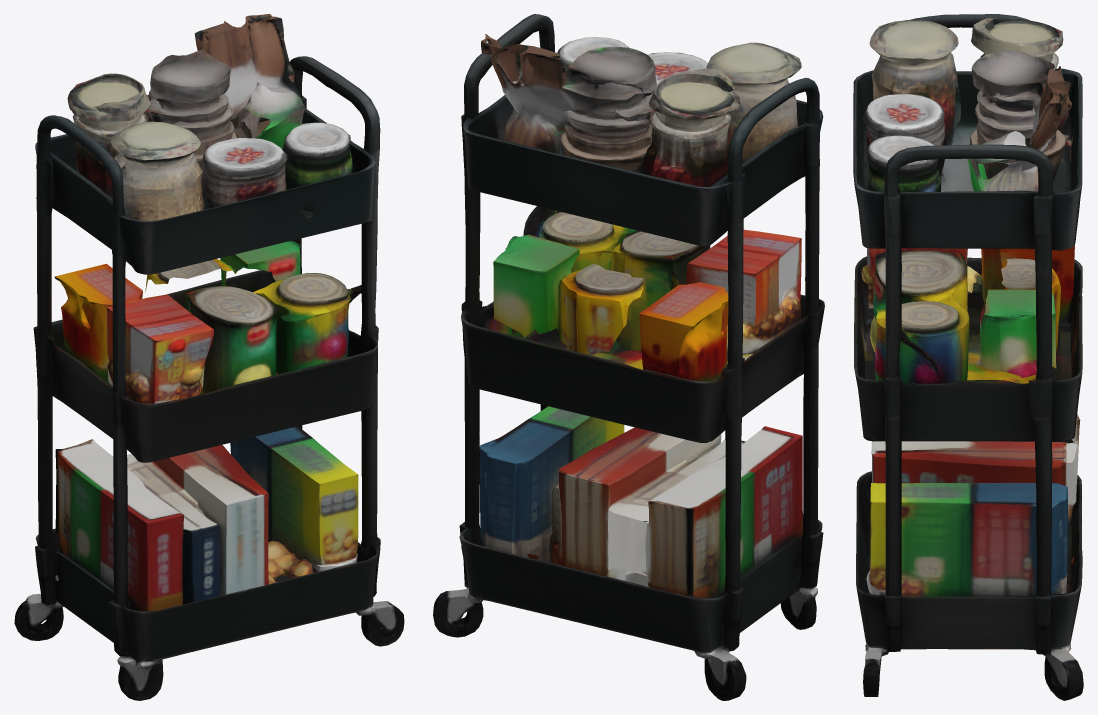
The model's file is woodlawn-ad252989.glb.
3 renders of one model, left to right at view 1: azimuth 30°, elevation 25°; view 2: azimuth 150°, elevation 25°; view 3: azimuth 270°, elevation 25°, orthographic. The views are drawn at different scales.
Parts seen in each view (by area): view 1: world; view 2: world; view 3: world.
Boxes of the visible parts, bbox=[...] form: world: bbox=[14, 14, 404, 700]; world: bbox=[433, 14, 824, 700]; world: bbox=[853, 14, 1083, 700].
Size of the model in its own units: 0.5385 by 1 by 0.3581.
1 material, 1 textured.
